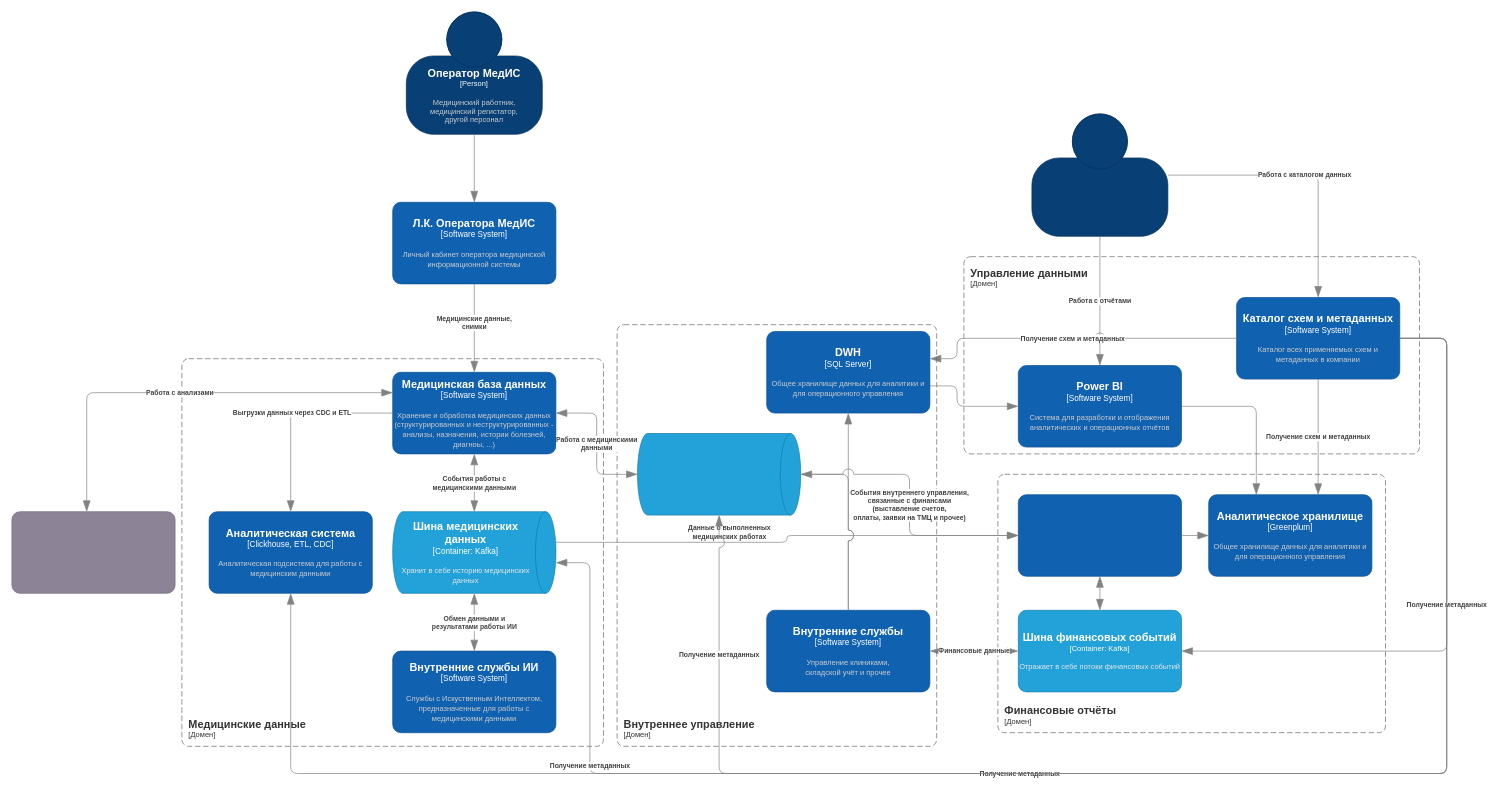
The diagram is 1499 pixels wide and 796 high, and some of its shapes have lost their labels. Here are the shapes that lost their labels. From the top down, the centre of each, then its label:
At (x=1099, y=174): "Продуктовый аналитик [Person] Аналитик продуктовой команды какого-либо домена".
At (x=719, y=474): "Шина событий внутреннего управления [Container: Kafka]".
At (x=93, y=552): "Лабораторная система [Software System] Внешние системы лабораторных организаций".
At (x=1100, y=535): "ФинТех Службы [Software System] Набор служб, выполняющих финансовые задачи".
